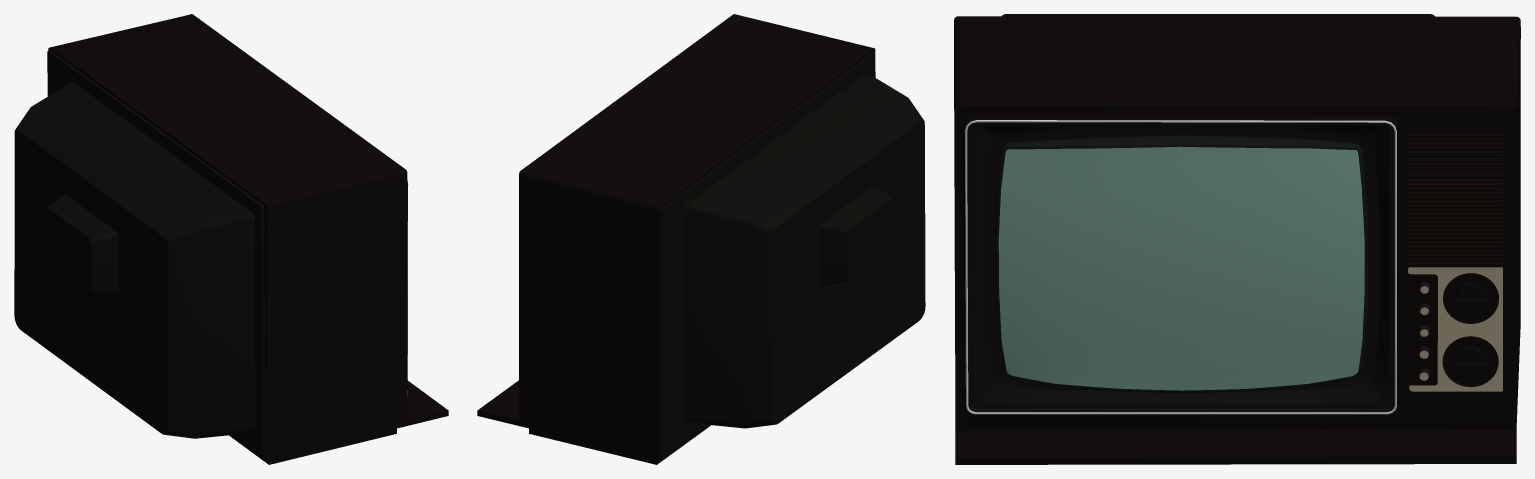
The picture shows the model from 3 angles, left to right: view 1: azimuth 30°, elevation 25°; view 2: azimuth 150°, elevation 25°; view 3: azimuth 270°, elevation 25°; orthographic projection. The views are drawn at different scales.
Parts seen in each view (by area): view 1: Retro_tv (×3); view 2: Retro_tv (×3); view 3: Retro_tv (×10).
Boxes of the visible parts, x1,y1,x2,y2 form: Retro_tv (×3): [14, 14, 448, 464]; Retro_tv (×3): [477, 14, 925, 464]; Retro_tv (×10): [954, 14, 1520, 464].
Bounding box in the file's own units: 1.48 × 1.34 × 2.
